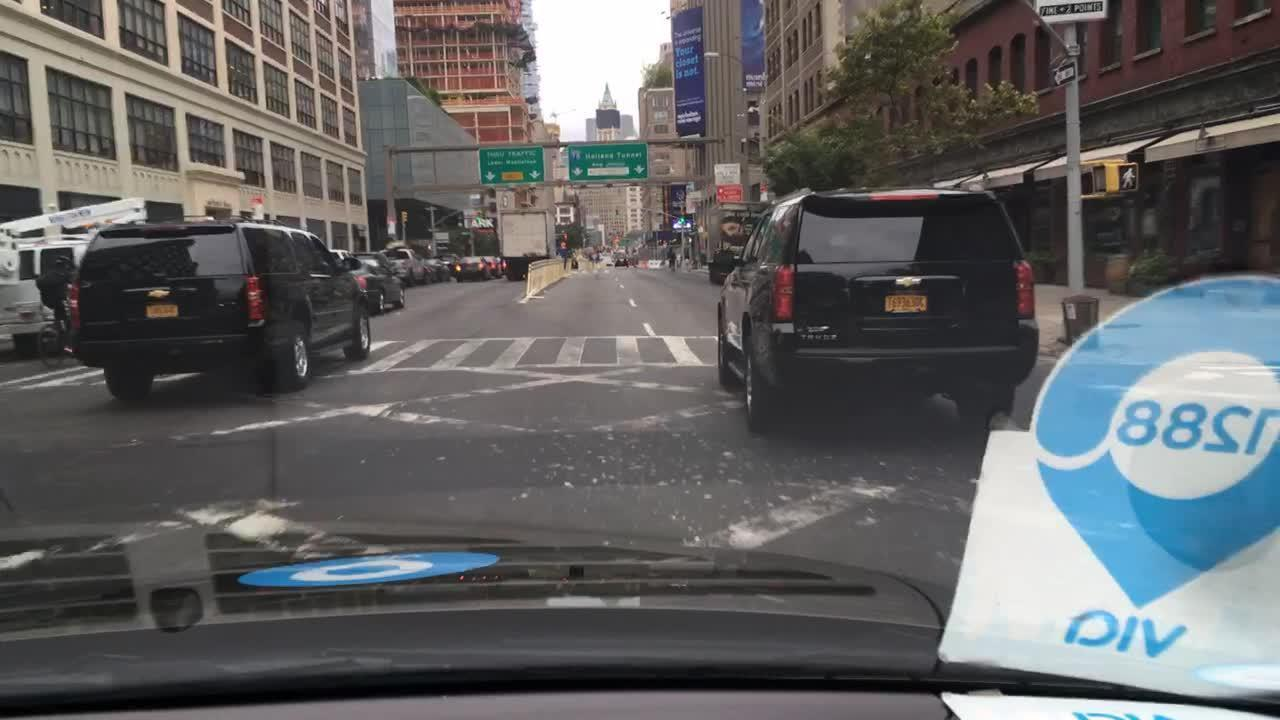chevrolet: (134, 279, 179, 306), (892, 271, 930, 290)
